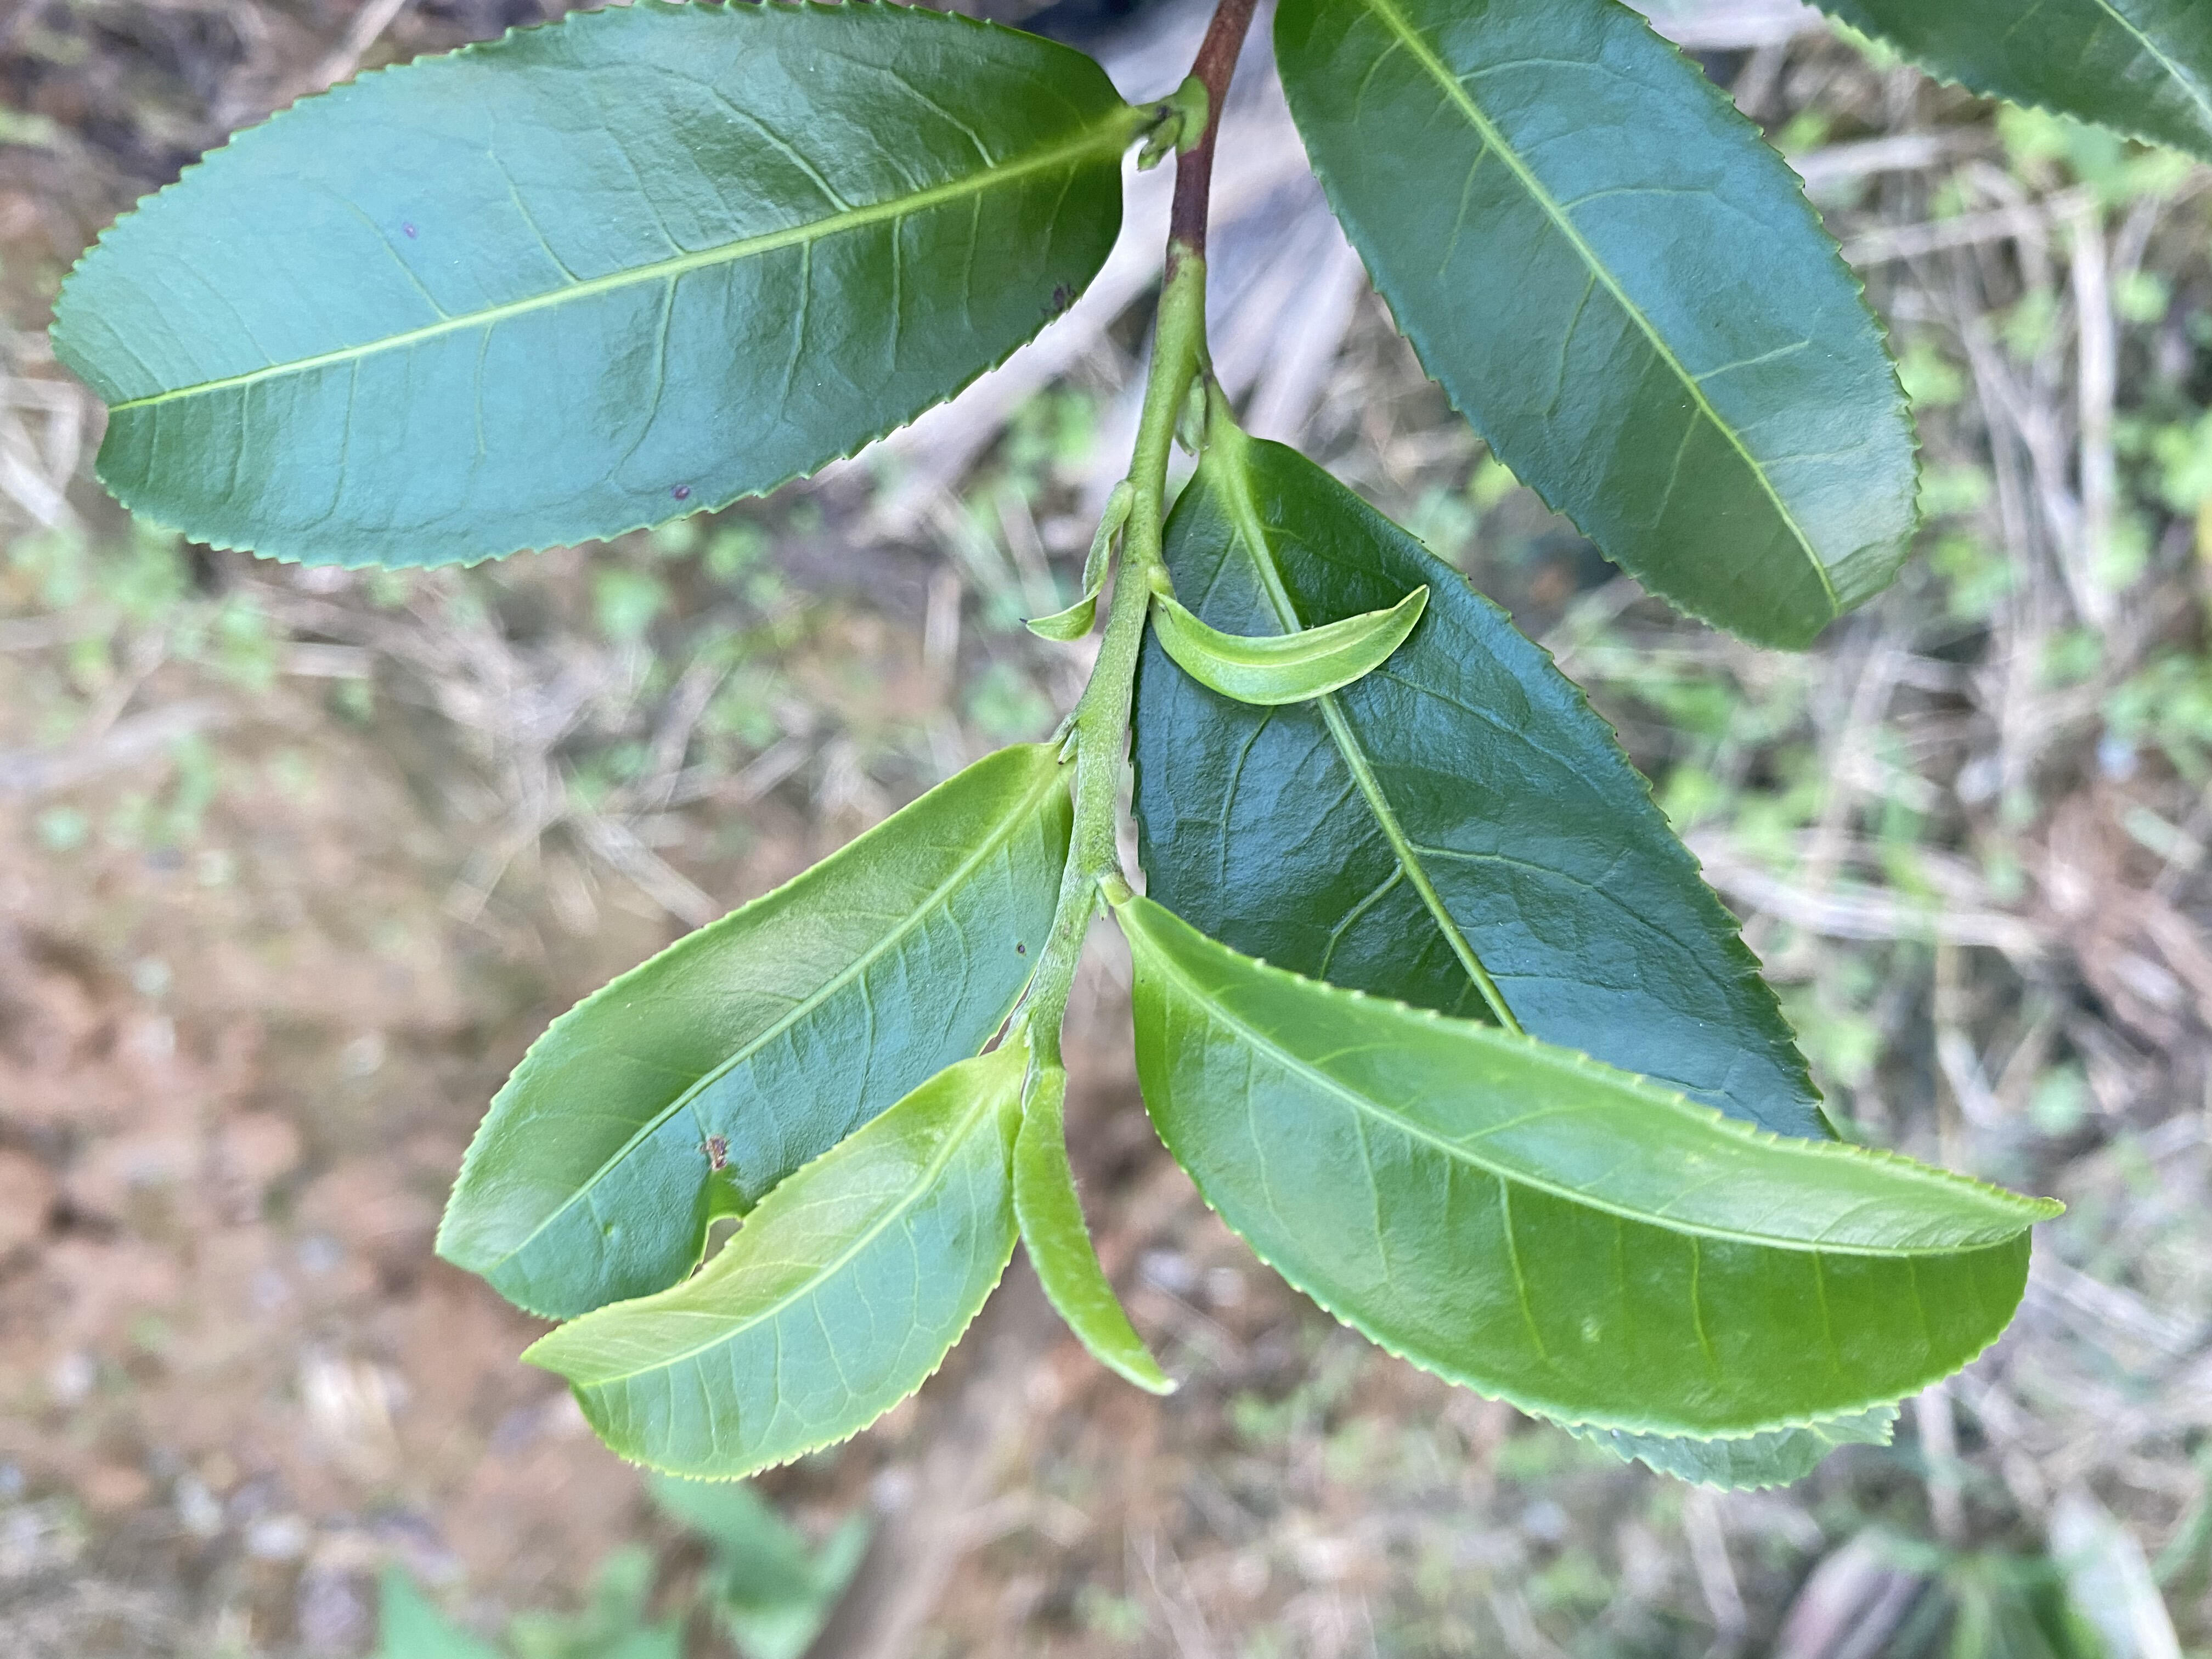healthy: (1118, 899, 2067, 1443), (1273, 2, 1923, 652), (519, 1051, 1028, 1483)
tanju_low: (45, 3, 1130, 573), (432, 746, 1071, 1324)
